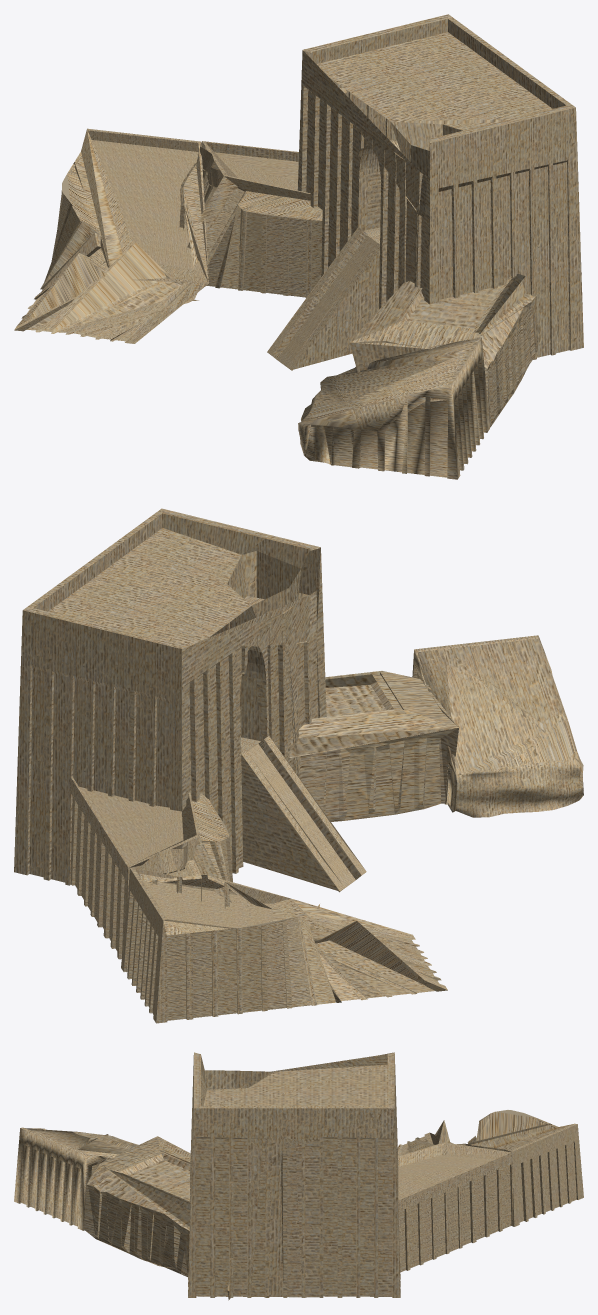
Rendered from Sumeria_TownCenter_Semi.fbx.
The picture shows the model from 3 angles, top to bottom: view 1: azimuth 30°, elevation 25°; view 2: azimuth 150°, elevation 25°; view 3: azimuth 270°, elevation 25°; orthographic projection. The views are drawn at different scales.
Visible parts, largest first — view 1: base3, base1_004, base1_002, base1_003, base1, Cube_002; view 2: base3, base1_004, base1_002, base1, base1_003, Cube_002; view 3: base3, base1_003, base1, base1_004, base1_002.
Boxes of the visible parts, x1,y1,x2,y2 form: base3: [297, 14, 583, 359]; base1_004: [14, 128, 208, 343]; base1_002: [298, 337, 489, 479]; base1_003: [199, 141, 322, 297]; base1: [349, 274, 538, 427]; Cube_002: [267, 227, 380, 370]; base3: [14, 508, 326, 885]; base1_004: [121, 868, 447, 1023]; base1_002: [412, 635, 583, 817]; base1: [289, 671, 458, 821]; base1_003: [70, 776, 232, 972]; Cube_002: [241, 736, 366, 892]; base3: [188, 1052, 400, 1297]; base1_003: [398, 1142, 514, 1272]; base1: [84, 1136, 234, 1300]; base1_004: [397, 1110, 583, 1226]; base1_002: [14, 1127, 138, 1230].
Size of the model in its own units: 11.06 by 6.24 by 16.64.
1 material, 1 textured.
